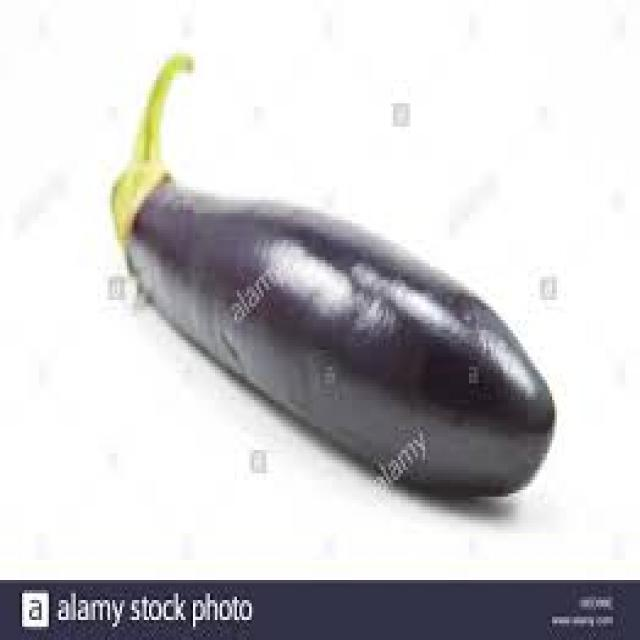organic waste: (115, 50, 554, 497)
